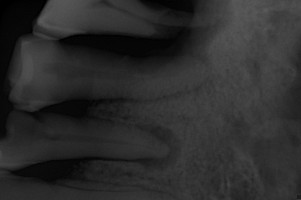Dental Caries: (145, 0, 232, 57)
Furcation Involvement: (136, 123, 184, 171)
